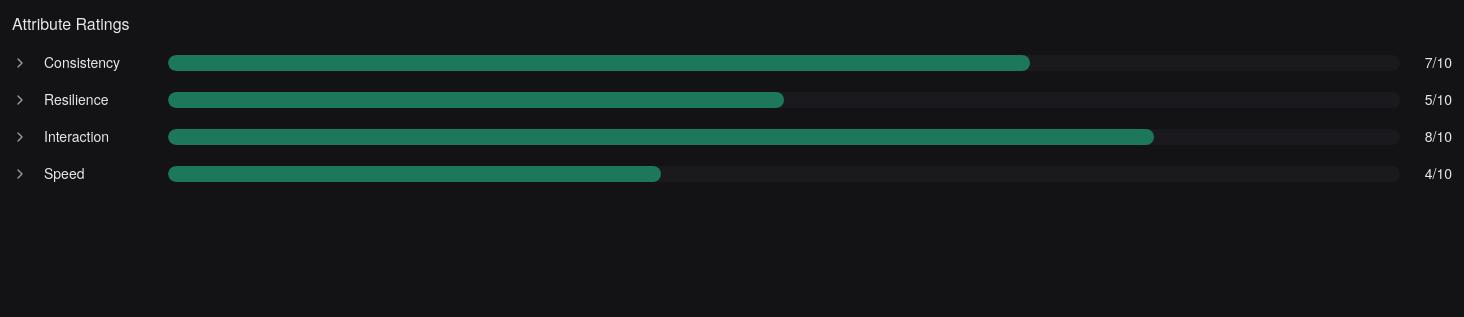
Test case: RatingsSection › clicking collapse hides contributing cards
Expand Consistency
Click the button "Consistency 7/10".
click(732, 62)  # box [12, 52, 1452, 73]
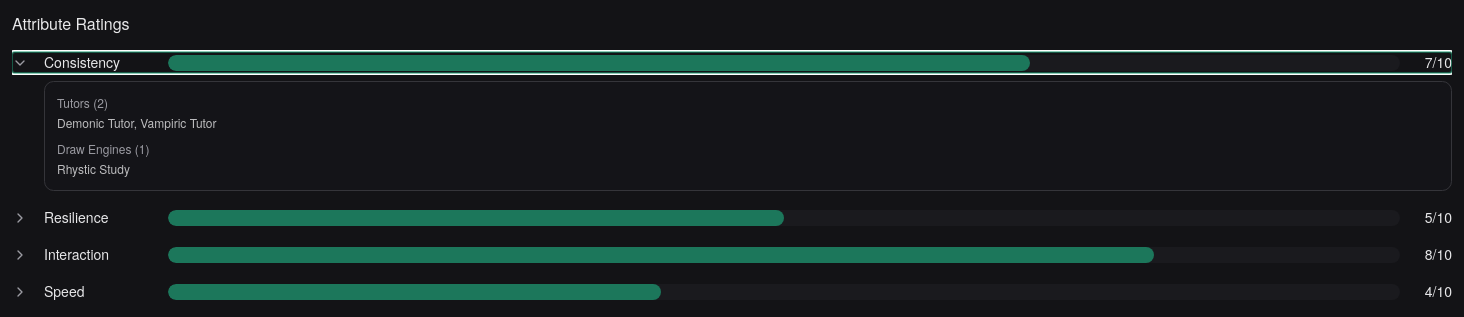
Check: the text "Tutors (2)" is shown, box [57, 94, 108, 111]
Collapse it
Click the button "Consistency 7/10".
click(732, 62)  # box [12, 52, 1452, 73]
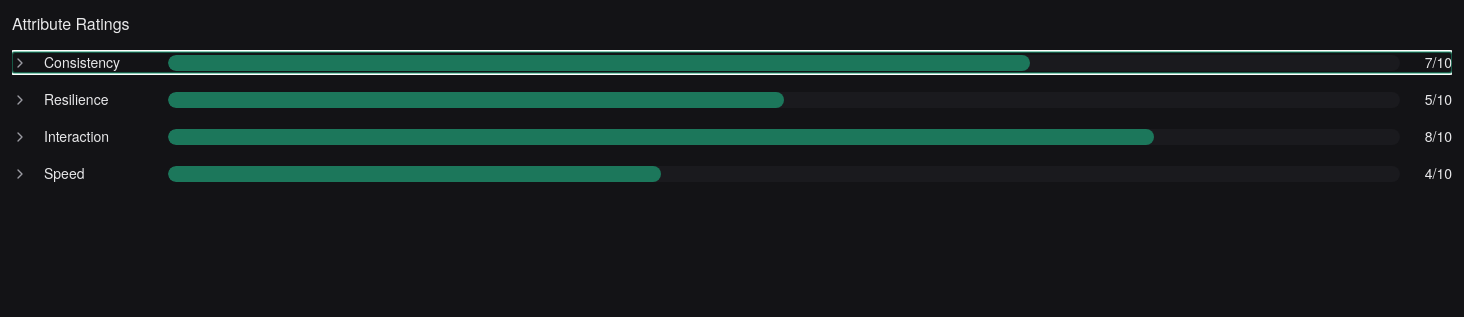
Check: the text "Tutors (2)" is gone
